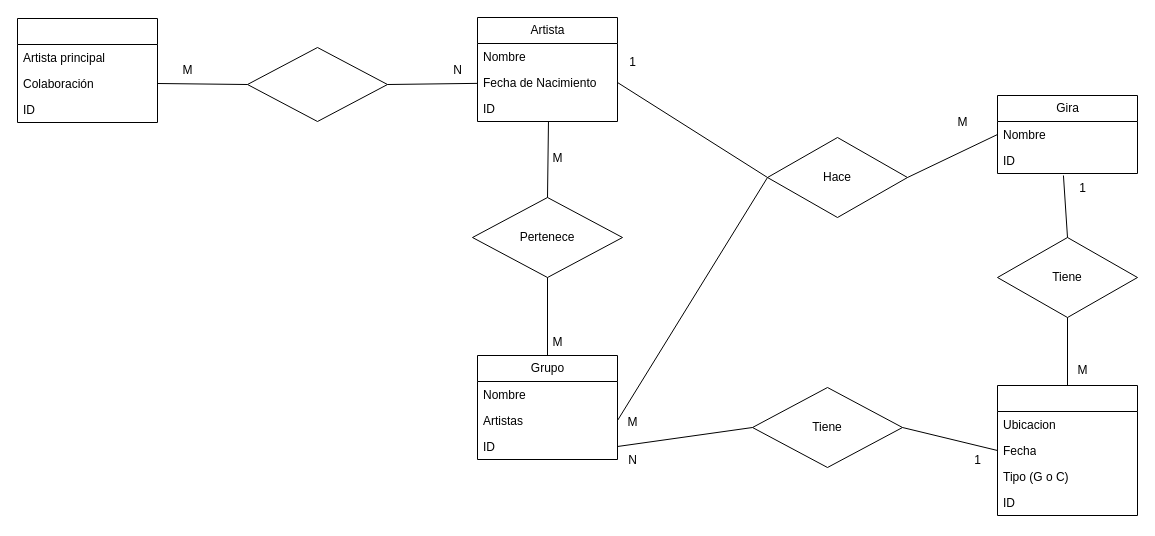
Some shapes in this 1155 by 536 pixel diagram are drawn without their labels. Here are the shapes that lost their labels. From the top down, the box of each, then its label:
(16, 18, 158, 122): Canción
(246, 46, 388, 122): Canta
(996, 384, 1138, 516): Concierto
